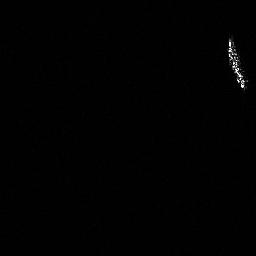ship: (224, 31, 252, 92)
